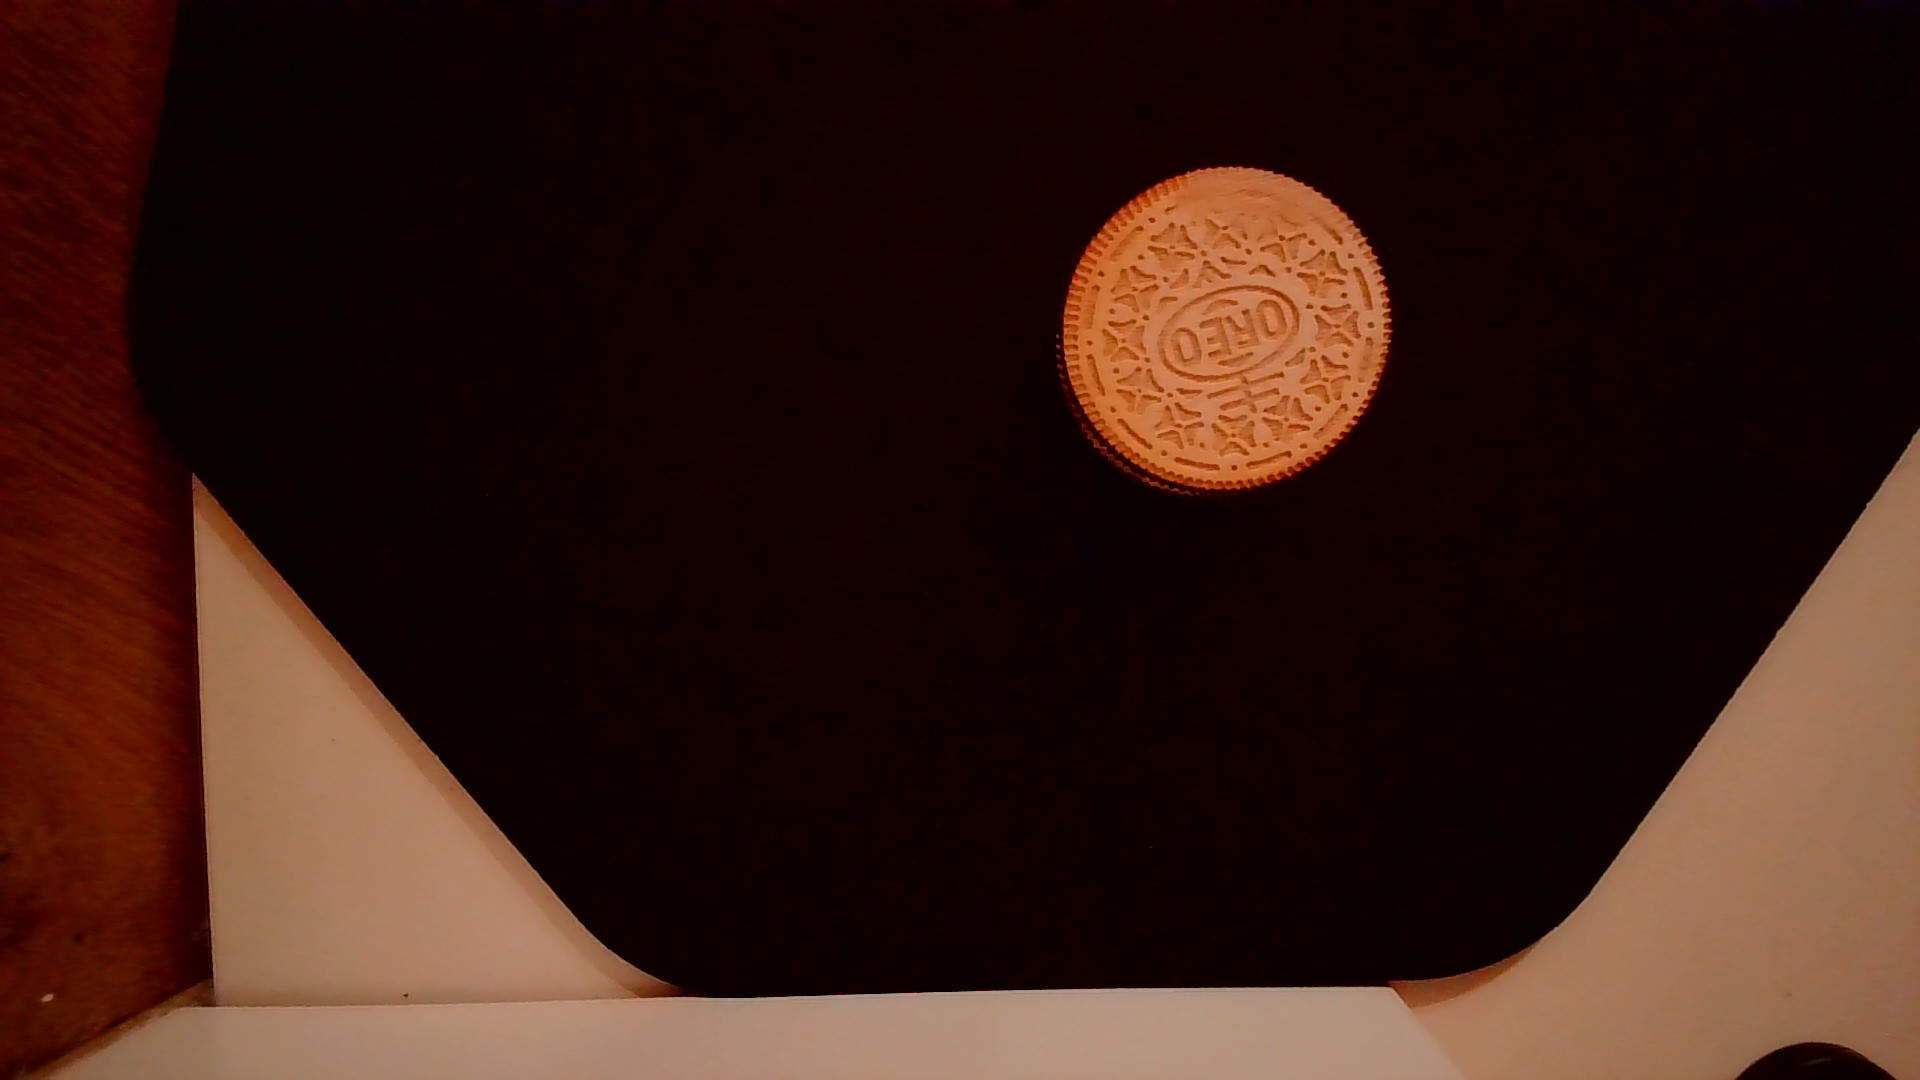Effacé: (1178, 171, 1312, 229)
Oréo: (1052, 164, 1398, 502)
